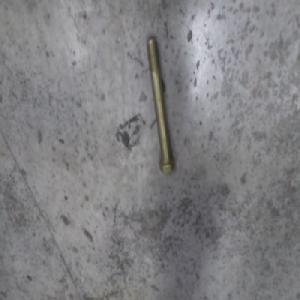Bolt: (139, 30, 172, 166)
